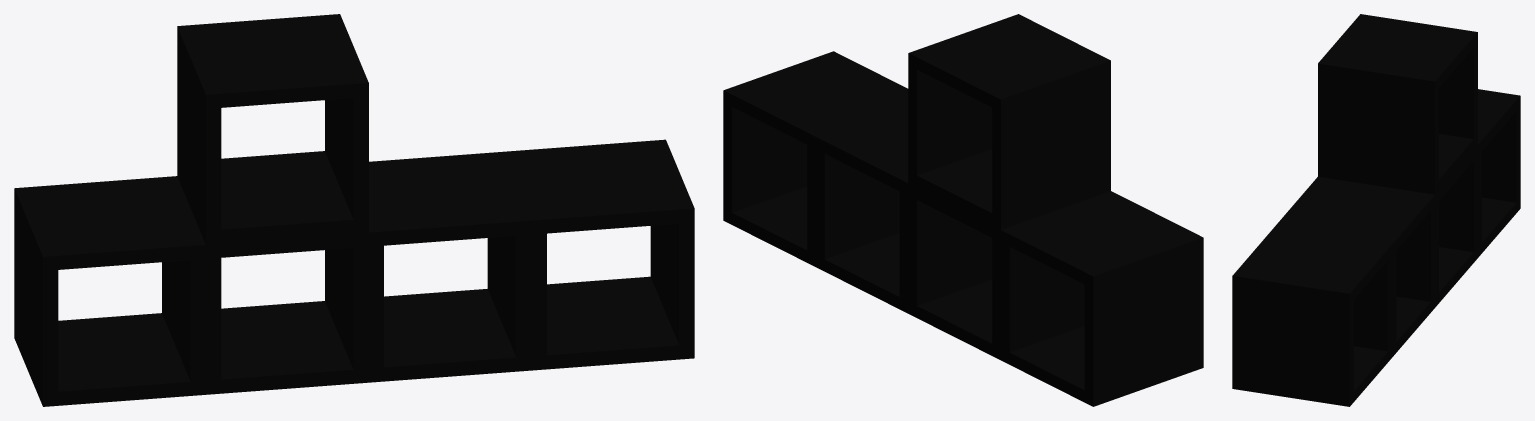
3 views of the same model, side by side, from view 1: azimuth 30°, elevation 25°; view 2: azimuth 150°, elevation 25°; view 3: azimuth 270°, elevation 25° (orthographic). The views are drawn at different scales.
Parts seen in each view (by area): view 1: Joint_0_Object_2, Joint_0_Object_1, Joint_0_Object_0, Joint_0_Object_4, Joint_0_Object_3; view 2: Joint_0_Object_1, Joint_0_Object_2, Joint_0_Object_0, Joint_0_Object_4, Joint_0_Object_3; view 3: Joint_0_Object_0, Joint_0_Object_1, Joint_0_Object_4, Joint_0_Object_2, Joint_0_Object_3.
Part boxes in pixels (x1,y1,x2,y2): Joint_0_Object_2: (14, 176, 205, 406); Joint_0_Object_1: (177, 14, 368, 244); Joint_0_Object_0: (503, 139, 694, 370); Joint_0_Object_4: (369, 152, 531, 382); Joint_0_Object_3: (206, 232, 368, 394); Joint_0_Object_1: (908, 14, 1110, 229); Joint_0_Object_2: (1001, 191, 1203, 406); Joint_0_Object_0: (723, 51, 908, 266); Joint_0_Object_4: (816, 104, 908, 313); Joint_0_Object_3: (908, 183, 1000, 360); Joint_0_Object_0: (1232, 226, 1392, 406); Joint_0_Object_1: (1318, 14, 1477, 194); Joint_0_Object_4: (1275, 176, 1434, 356); Joint_0_Object_2: (1477, 89, 1520, 257); Joint_0_Object_3: (1435, 146, 1477, 307).
Bounding box in the file's own units: 3369 × 1643 × 1896.
2 materials, 2 textured.
